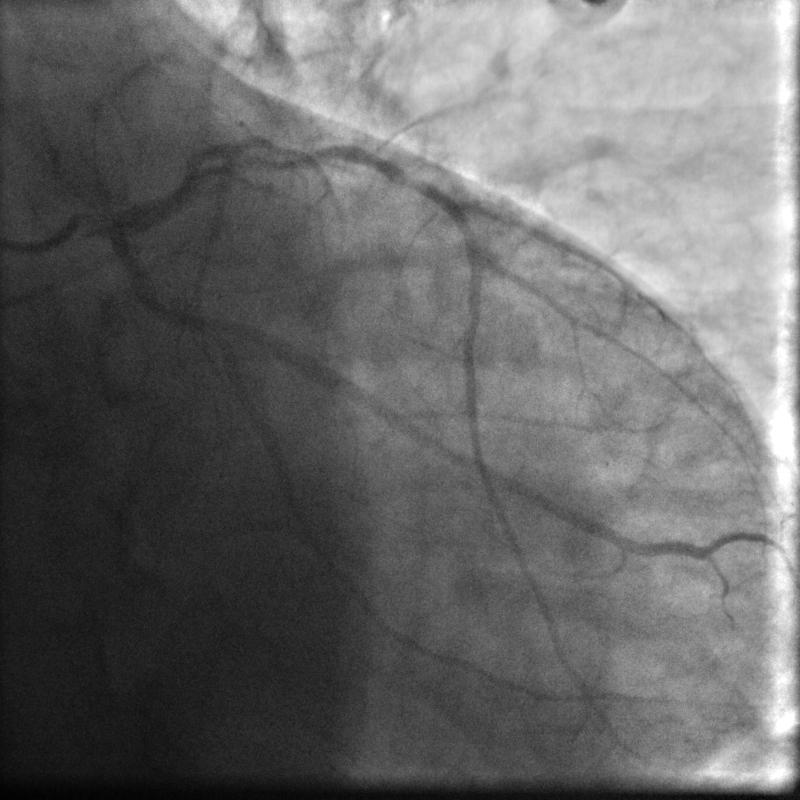Stenosis: (278, 141, 373, 172)
